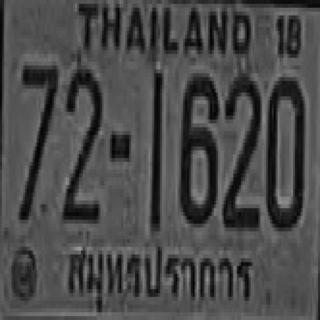N00: (264, 73, 302, 227)
N01: (150, 70, 162, 228), (150, 70, 161, 228)
N02: (62, 66, 100, 220), (223, 71, 259, 226)
N06: (178, 71, 217, 222)
N07: (17, 62, 56, 220)
P57: (63, 237, 257, 318)
